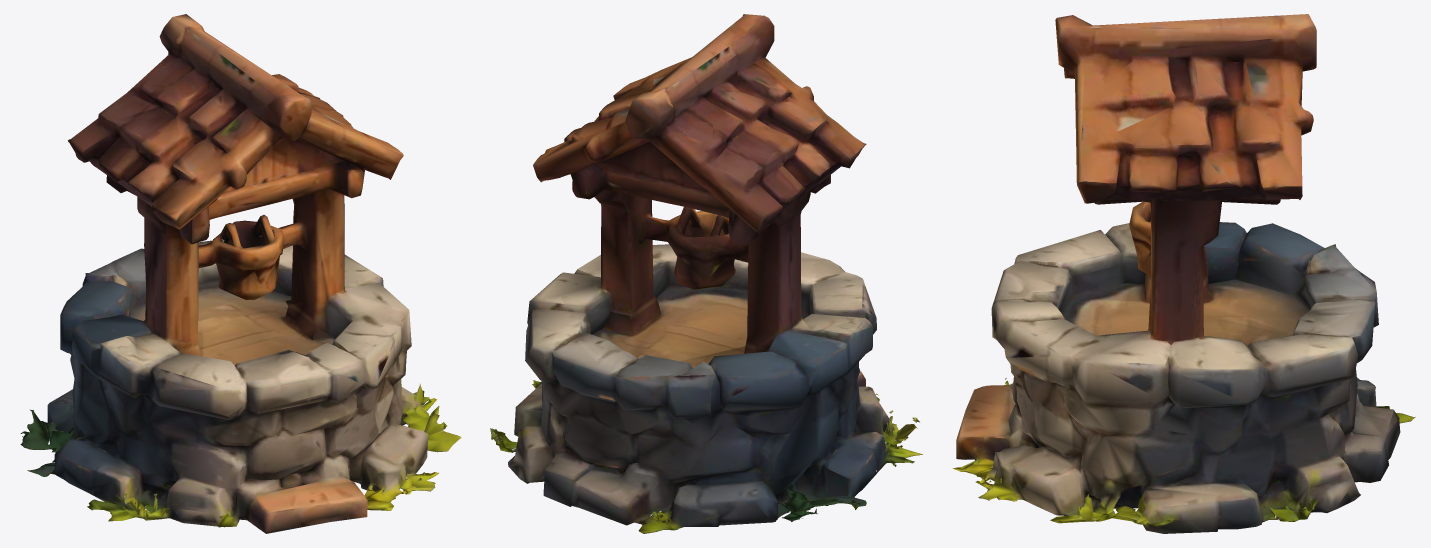
Rendered from well.glb.
3 renders of one model, left to right at view 1: azimuth 30°, elevation 25°; view 2: azimuth 150°, elevation 25°; view 3: azimuth 270°, elevation 25°, orthographic. The views are drawn at different scales.
Parts seen in each view (by area): view 1: tripo_node_8691d331; view 2: tripo_node_8691d331; view 3: tripo_node_8691d331.
Boxes of the visible parts, x1,y1,x2,y2 form: tripo_node_8691d331: [20, 14, 461, 533]; tripo_node_8691d331: [490, 14, 922, 533]; tripo_node_8691d331: [952, 14, 1415, 533].
Bounding box in the file's own units: 96.45 × 97.84 × 96.35.
Materials: 1 (1 with a texture image).
